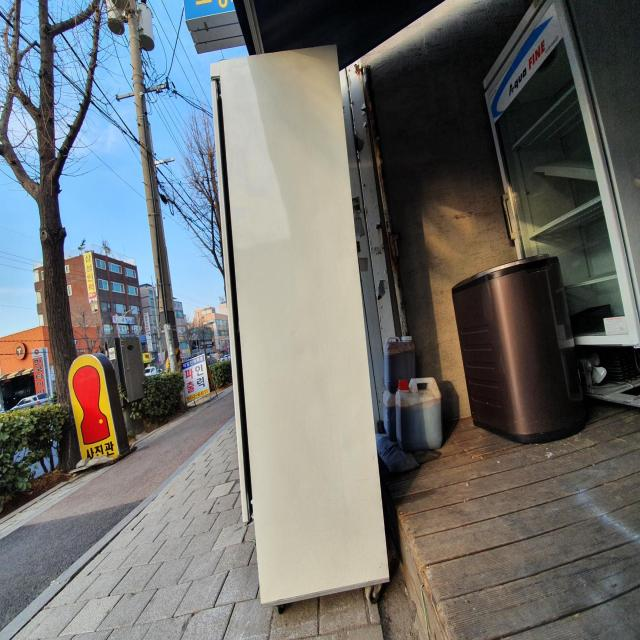refrigerator: (210, 38, 396, 610)
